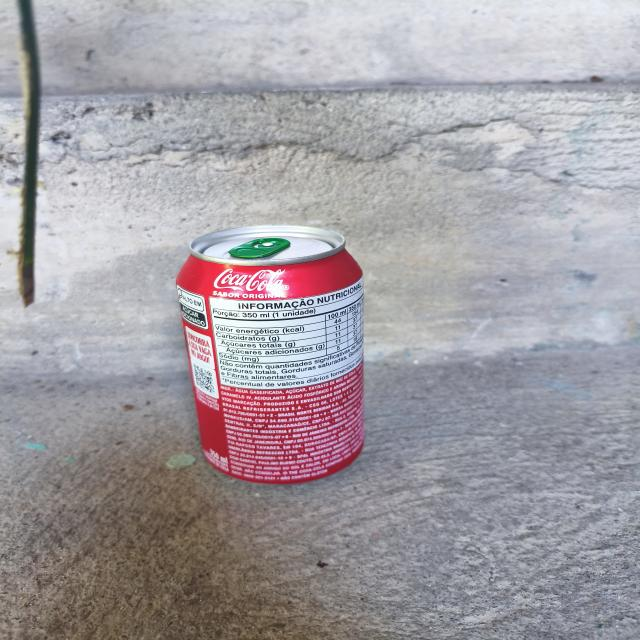Coca Cola: (162, 222, 406, 484)
